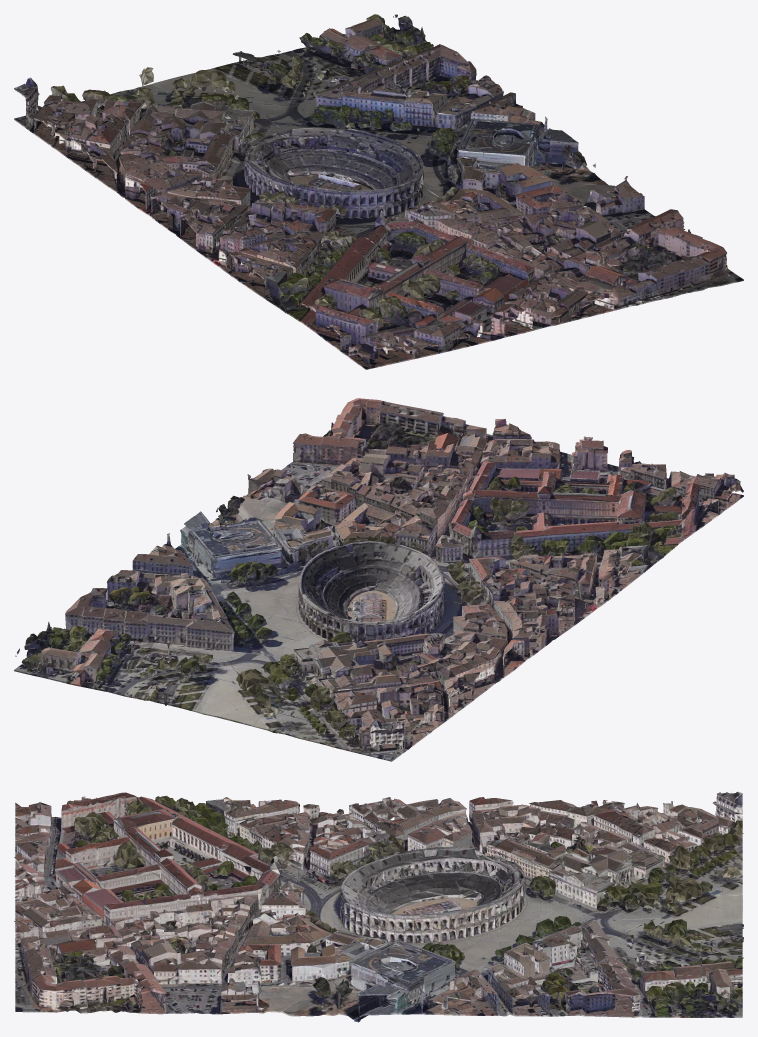
The model's file is arenes-nimes.glb.
3 views of the same model, one above another, from view 1: azimuth 30°, elevation 25°; view 2: azimuth 150°, elevation 25°; view 3: azimuth 270°, elevation 25° (orthographic). The views are drawn at different scales.
Visible parts, largest first — view 1: Object_2; view 2: Object_2; view 3: Object_2.
Boxes of the visible parts, x1,y1,x2,y2 form: Object_2: (14, 14, 743, 369); Object_2: (14, 398, 743, 761); Object_2: (14, 791, 743, 1022).
Bounding box in the file's own units: 390 × 47.46 × 628.
Materials: 1 (1 with a texture image).
